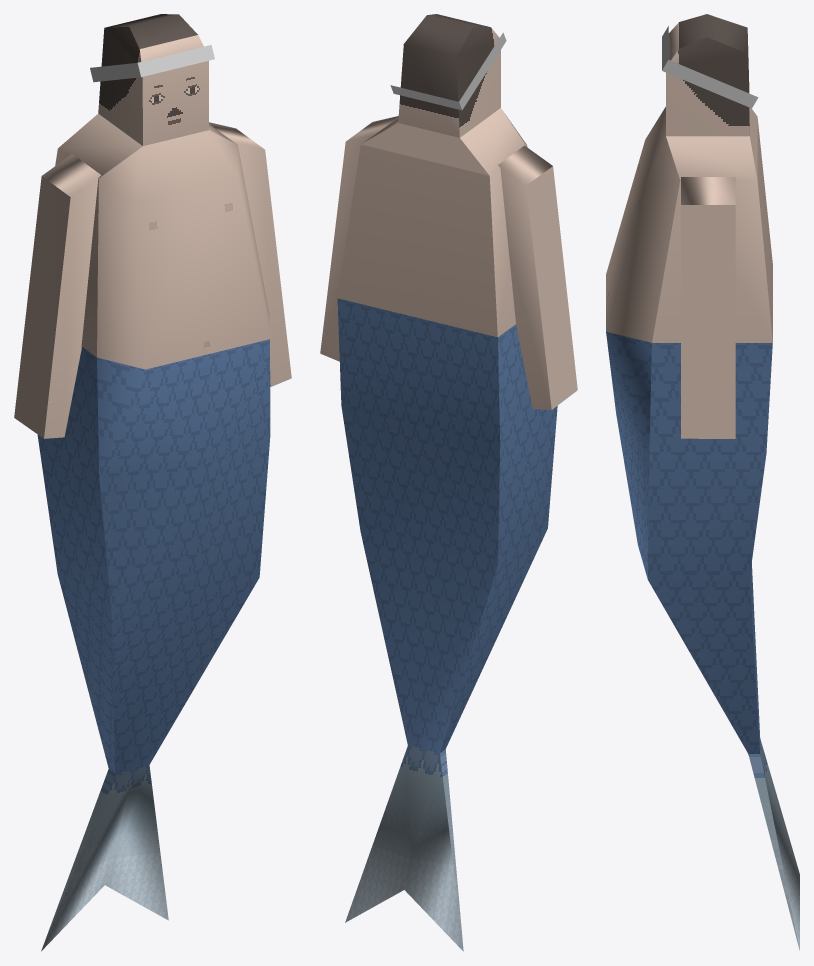
File: 0598_Merman.glb
3 renders of one model, left to right at view 1: azimuth 30°, elevation 25°; view 2: azimuth 150°, elevation 25°; view 3: azimuth 270°, elevation 25°, orthographic. The views are drawn at different scales.
Visible parts, largest first — view 1: part_0; view 2: part_0; view 3: part_0.
Part boxes in pixels (x1,y1,x2,y2): part_0: (14,14,291,951); part_0: (320,14,577,951); part_0: (606,14,799,950).
Size of the model in its own units: 0.6477 by 2.36 by 0.4627.
1 material, 1 textured.
